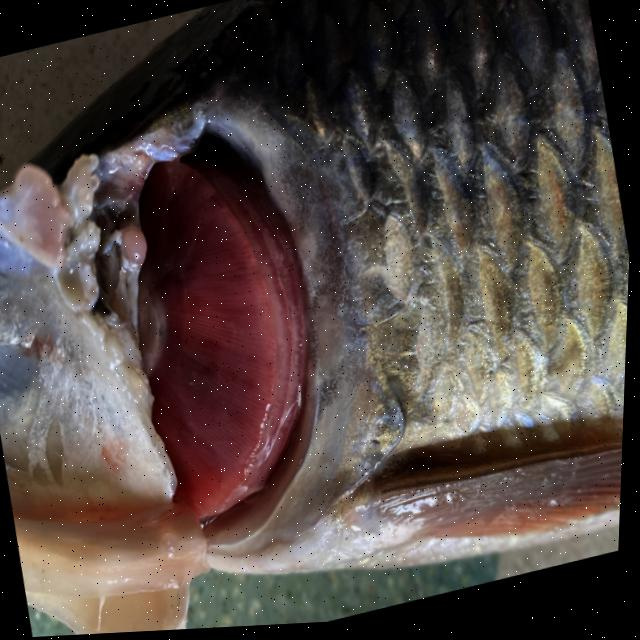Fresh: (53, 90, 384, 586)
